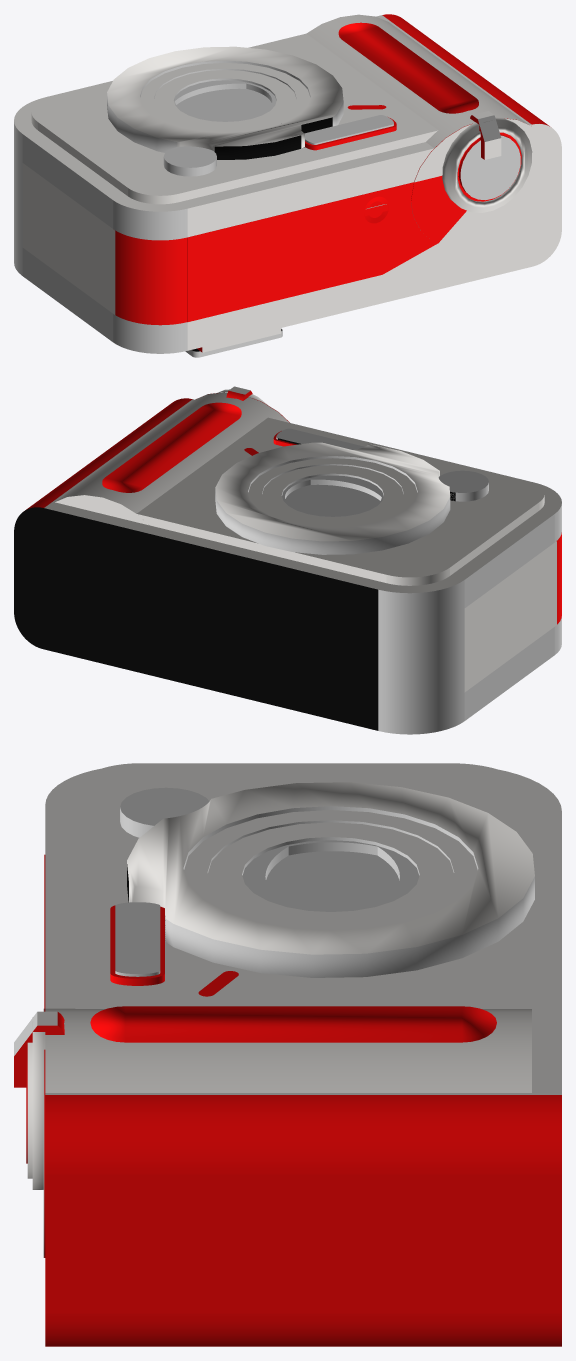
File: model_scale.obj
3 renders of one model, top to bottom at view 1: azimuth 30°, elevation 25°; view 2: azimuth 150°, elevation 25°; view 3: azimuth 270°, elevation 25°, orthographic. The views are drawn at different scales.
Parts seen in each view (by area): view 1: mesh2_mesh2-geometry, mesh6_mesh6-geometry, mesh20_mesh20-geometry; view 2: mesh2_mesh2-geometry, mesh6_mesh6-geometry; view 3: mesh2_mesh2-geometry, mesh6_mesh6-geometry, mesh20_mesh20-geometry.
Boxes of the visible parts, x1,y1,x2,y2 form: mesh2_mesh2-geometry: [14, 14, 561, 357]; mesh6_mesh6-geometry: [338, 22, 478, 113]; mesh20_mesh20-geometry: [470, 111, 501, 159]; mesh2_mesh2-geometry: [14, 389, 561, 734]; mesh6_mesh6-geometry: [102, 402, 241, 492]; mesh2_mesh2-geometry: [26, 763, 561, 1346]; mesh6_mesh6-geometry: [90, 1006, 496, 1042]; mesh20_mesh20-geometry: [14, 1011, 64, 1087].
Bounding box in the file's own units: 0.1244 × 0.0501 × 0.0811.
